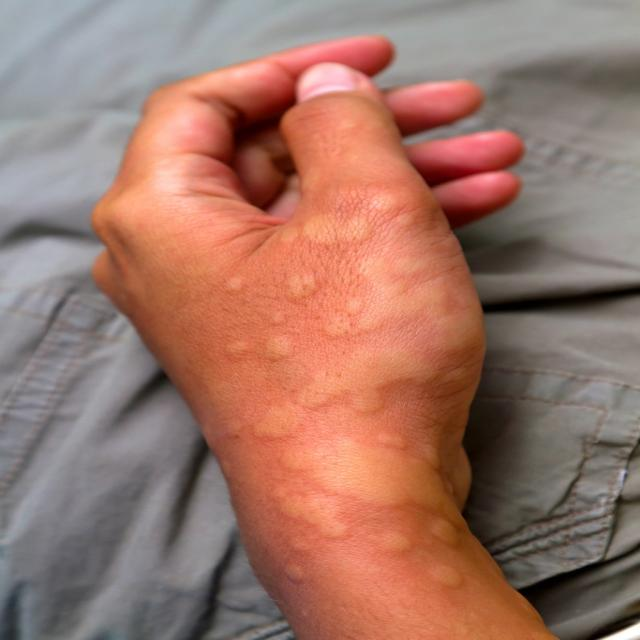hives: (205, 108, 513, 598)
